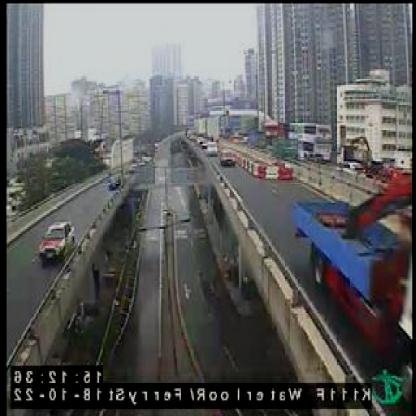Car: (40, 219, 75, 264), (219, 147, 237, 167)
Truck: (292, 170, 413, 405)
